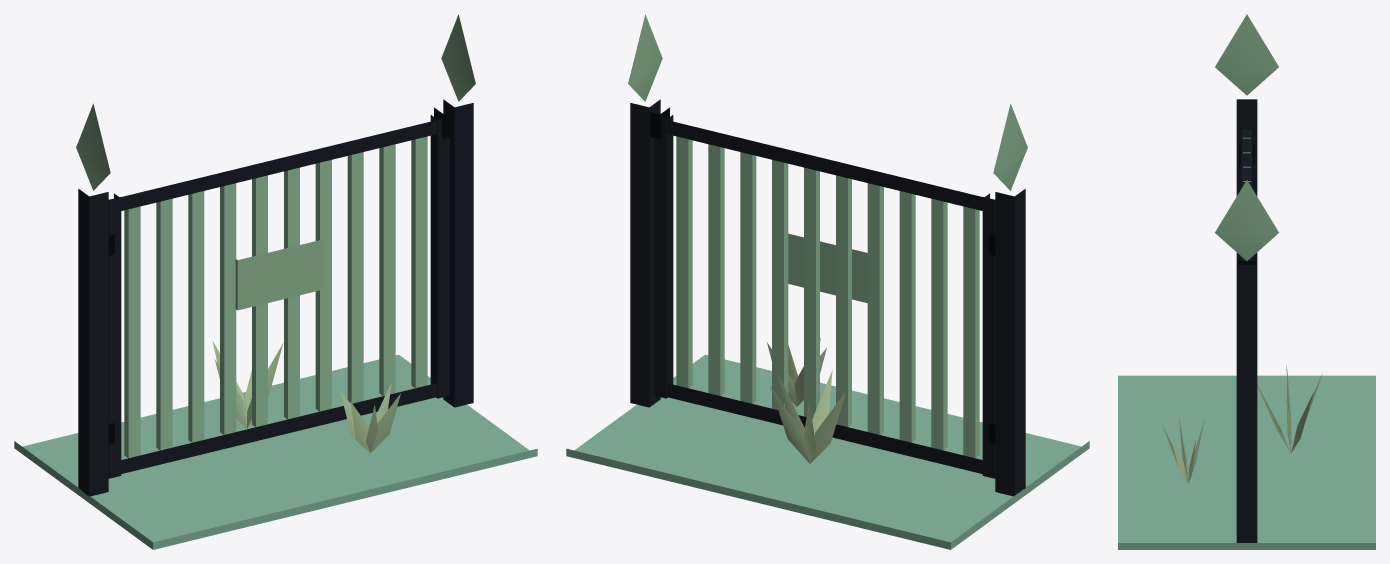
The model's file is v1_gate.glb.
3 views of the same model, side by side, from view 1: azimuth 30°, elevation 25°; view 2: azimuth 150°, elevation 25°; view 3: azimuth 270°, elevation 25° (orthographic). The views are drawn at different scales.
Visible parts, largest first — view 1: Gate_Infill, Safety_Pad, Posts, Gate_Rails, Gate_Frame, Gate_Sign, Leaf_Crests, Grass_Tufts; view 2: Gate_Infill, Safety_Pad, Posts, Gate_Frame, Gate_Rails, Grass_Tufts, Leaf_Crests, Gate_Sign; view 3: Safety_Pad, Posts, Leaf_Crests, Grass_Tufts, Gate_Rails, Gate_Frame.
Boxes of the visible parts, x1,y1,x2,y2 form: Gate_Infill: [124, 136, 427, 458]; Safety_Pad: [14, 354, 537, 549]; Posts: [78, 99, 473, 496]; Gate_Rails: [114, 120, 436, 473]; Gate_Frame: [108, 115, 449, 478]; Gate_Sign: [235, 239, 323, 310]; Leaf_Crests: [76, 14, 475, 190]; Grass_Tufts: [212, 341, 400, 452]; Gate_Infill: [676, 136, 979, 458]; Safety_Pad: [566, 354, 1089, 549]; Posts: [630, 99, 1025, 496]; Gate_Frame: [654, 115, 995, 478]; Gate_Rails: [667, 120, 989, 473]; Grass_Tufts: [767, 337, 846, 463]; Leaf_Crests: [628, 14, 1027, 190]; Gate_Sign: [788, 233, 867, 302]; Safety_Pad: [1118, 375, 1375, 549]; Posts: [1236, 99, 1257, 542]; Leaf_Crests: [1215, 14, 1278, 260]; Grass_Tufts: [1162, 365, 1322, 484]; Gate_Rails: [1242, 129, 1251, 261]; Gate_Frame: [1240, 115, 1253, 261].
Size of what is drawn, in the model's own units: 1.6 by 1.57 by 1.
Materials: 6 (2 with a texture image).
